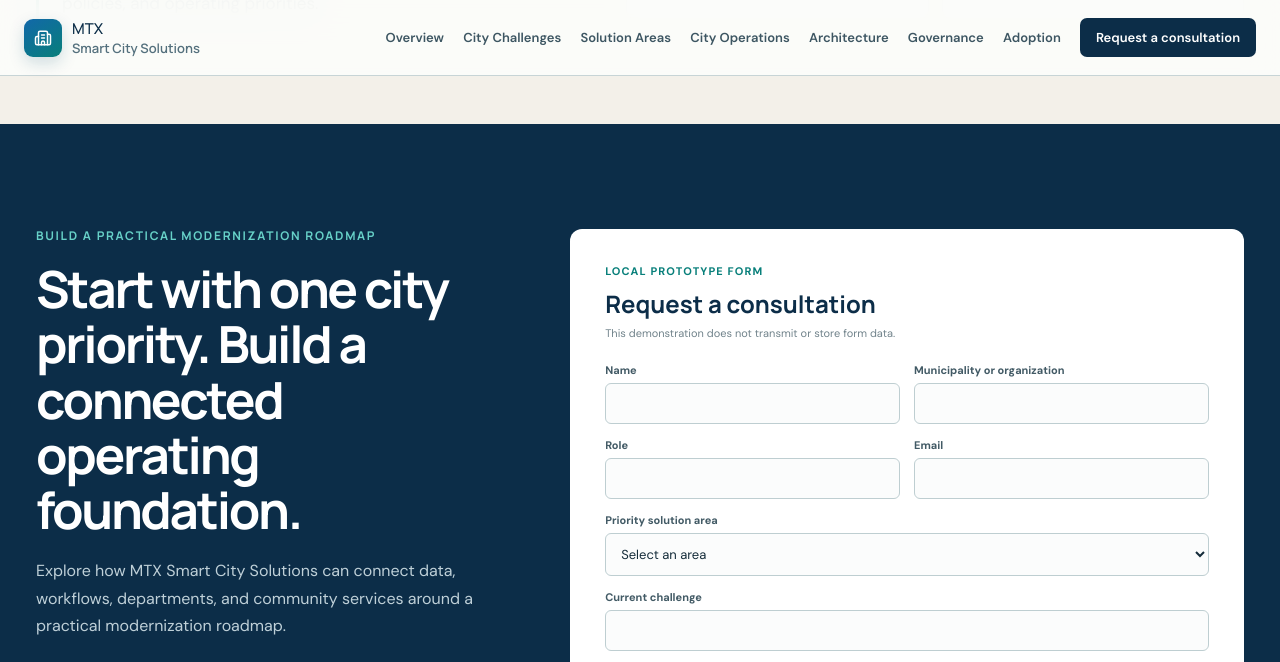
Test: MTX Smart City prototype › confirms that the consultation form stays local
(page scrolled)
In the field labelled "Name": (753, 403) [605, 382, 900, 424], type "Jordan Lee"
In the field labelled "Municipality or organization": (1062, 403) [914, 382, 1209, 424], type "Example Municipality"
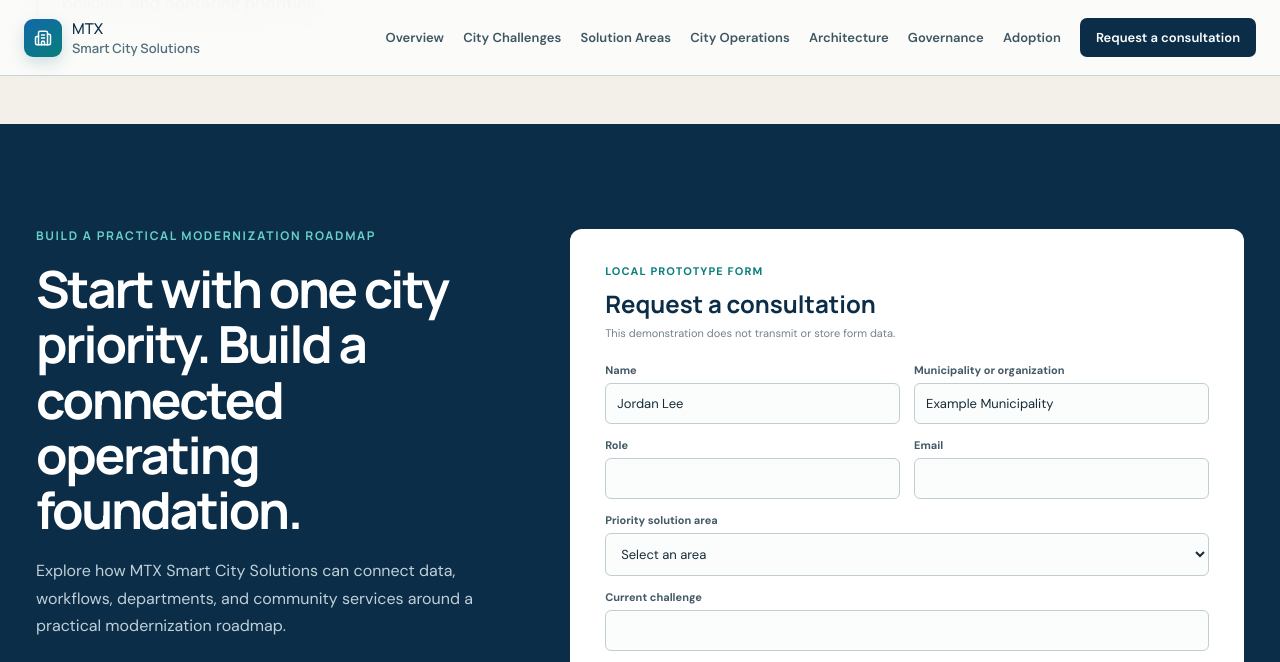
In the field labelled "Role": (753, 478) [605, 458, 900, 498], type "Program lead"
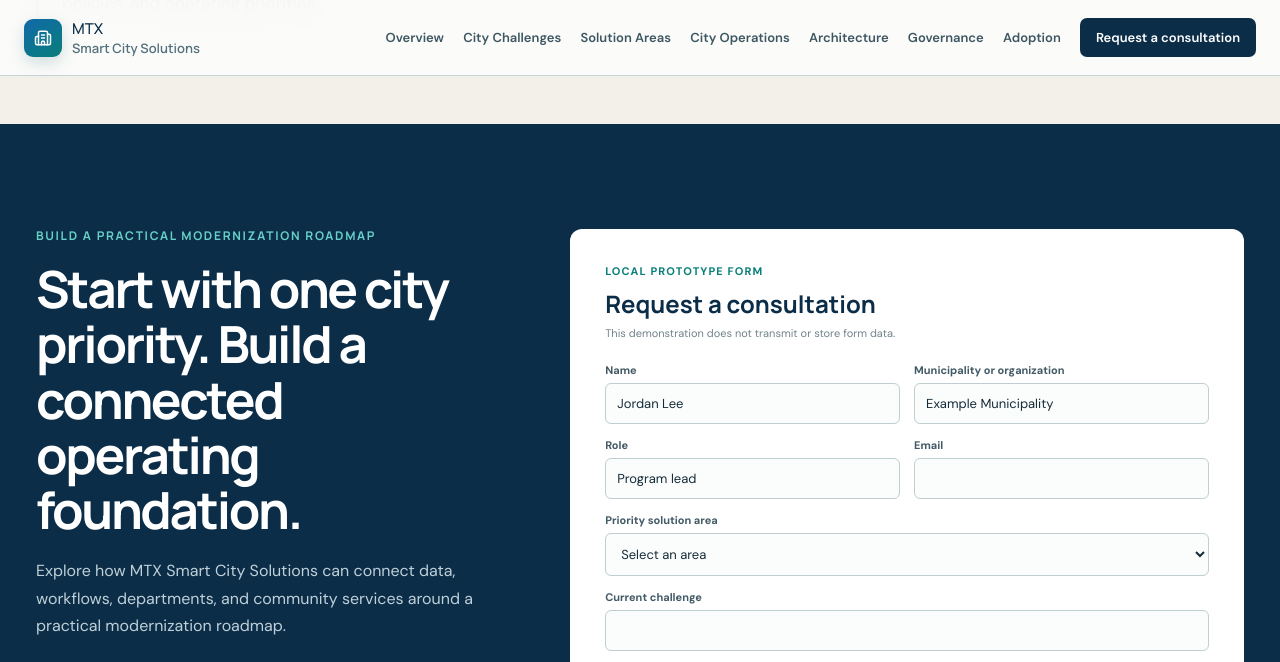
In the field labelled "Email": (1062, 478) [914, 458, 1209, 498], type "jordan@example.test"
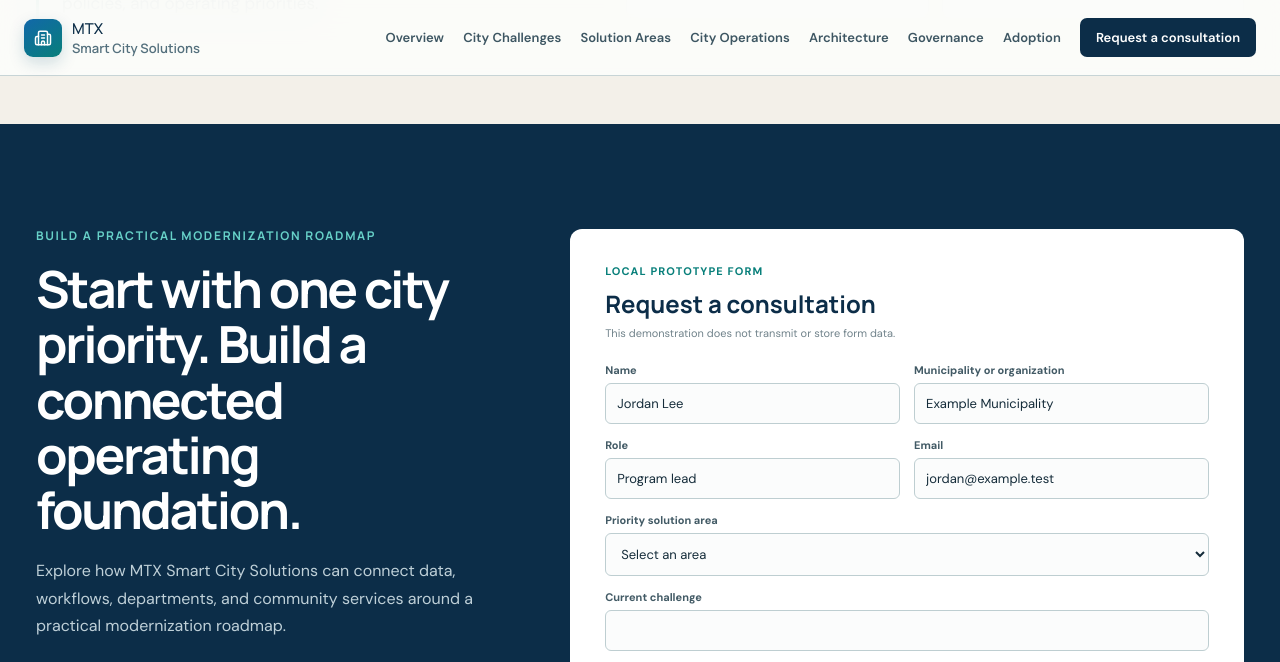
Select "Infrastructure" in the dropdown labelled "Priority solution area": (907, 554) [605, 532, 1209, 576]
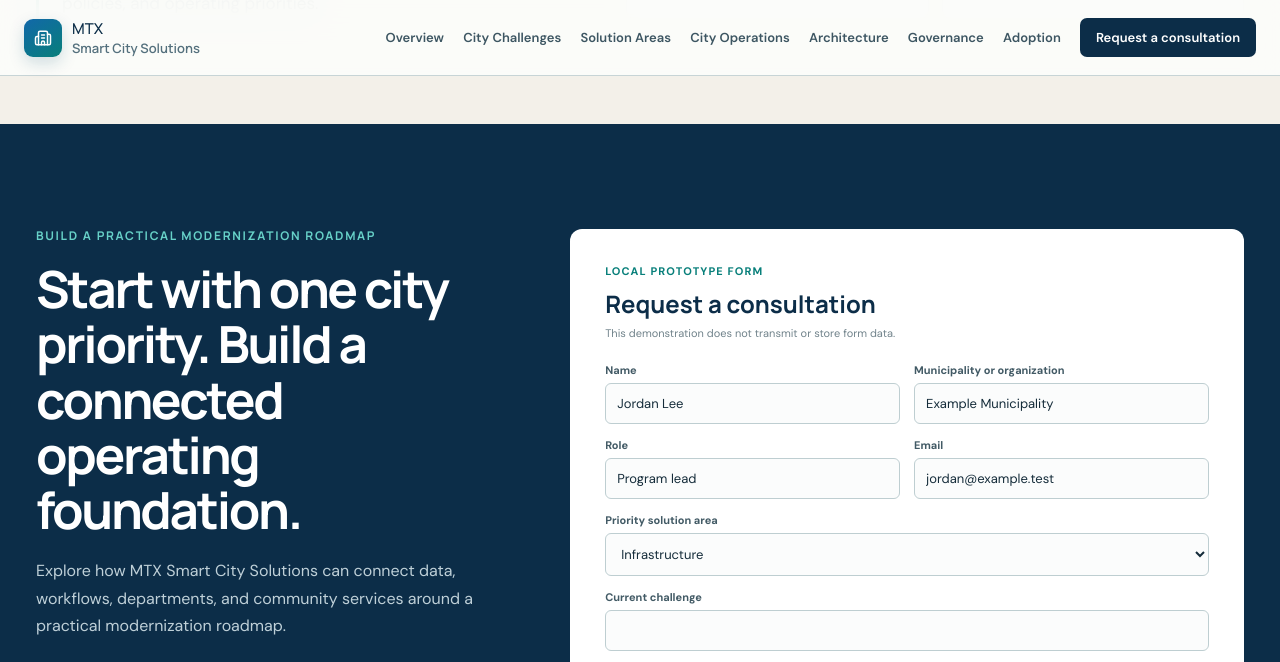
In the field labelled "Current challenge": (907, 630) [605, 610, 1209, 650], type "Disconnected work information"
(page scrolled)
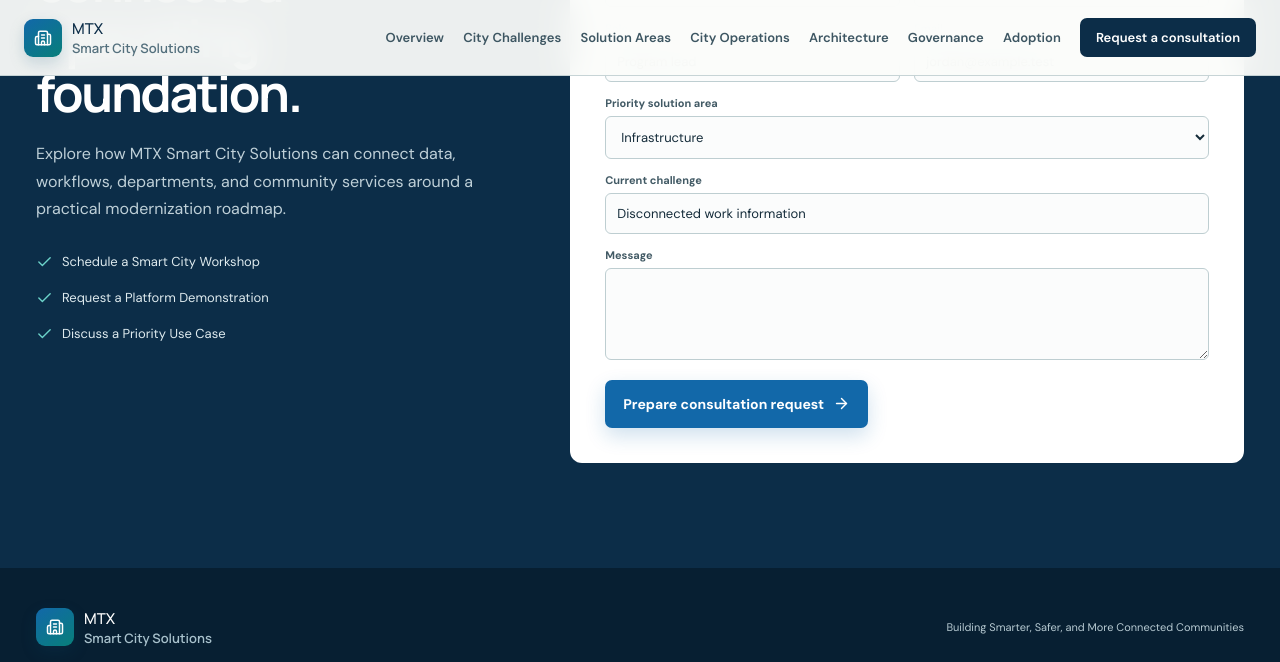
Click the button "Prepare consultation request": (737, 404) [605, 380, 868, 428]
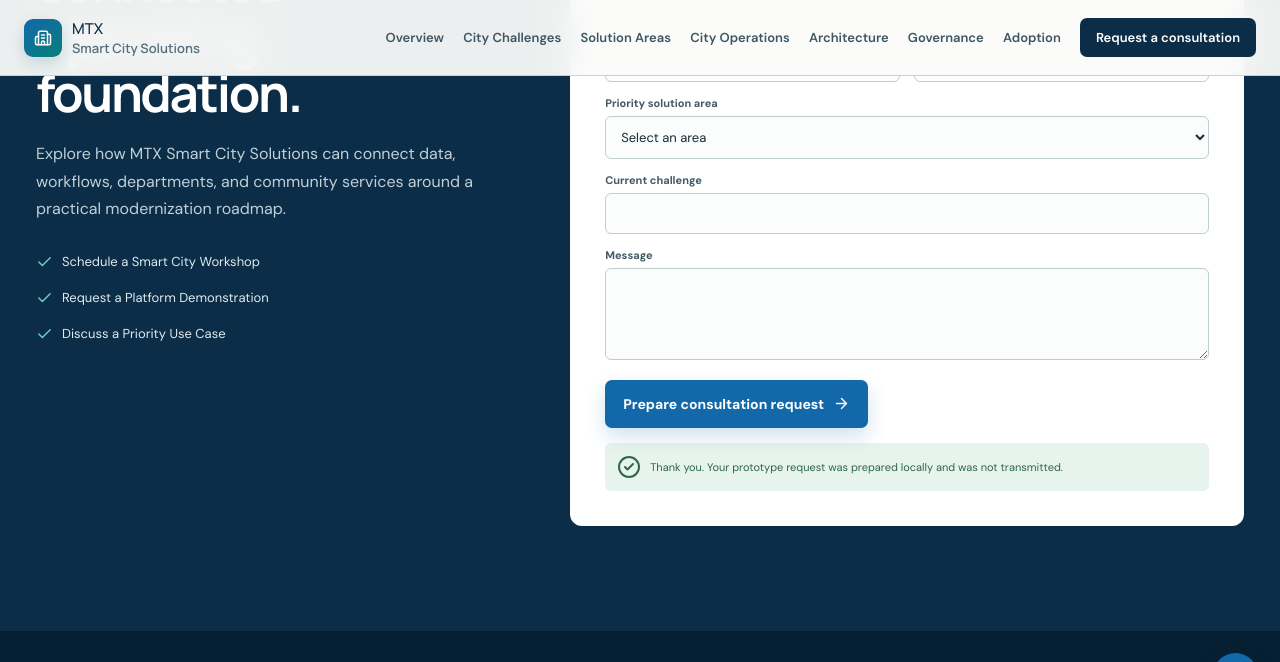
Result: the message shows "was not transmitted" at [650, 460, 1063, 474]
